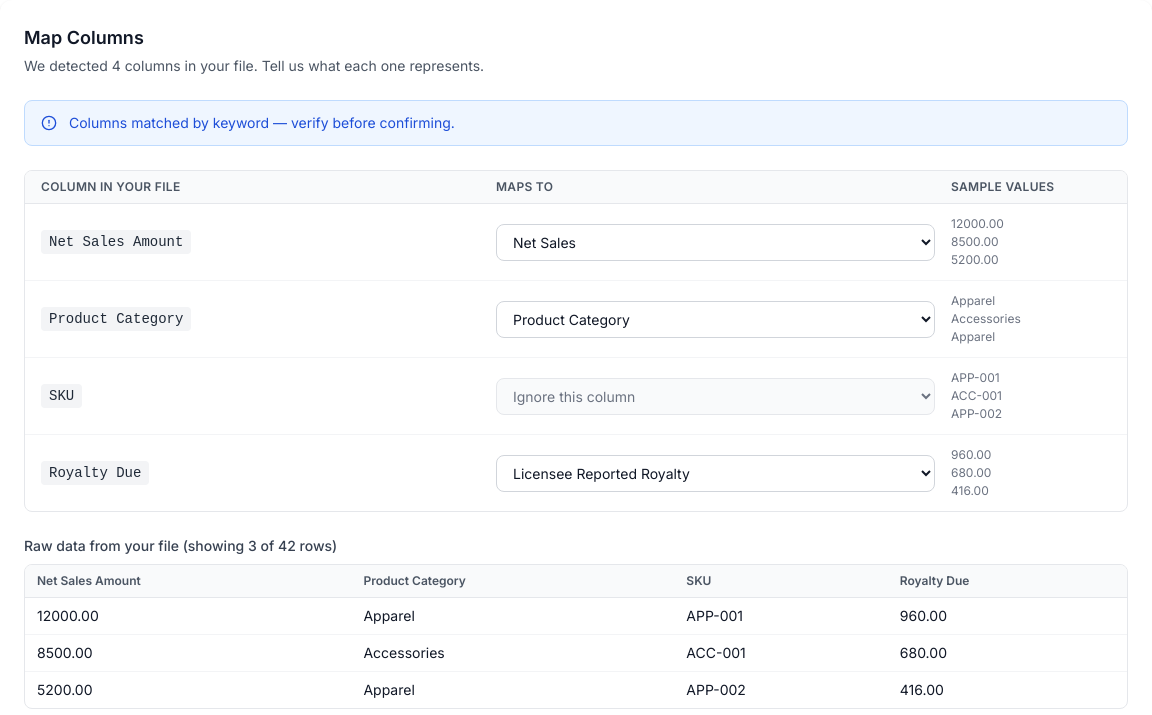
Test: ColumnMapper component › metadata callout disappears when the last metadata column is re-mapped
The width and height of the screenshot is (1152, 715).
Map SKU to metadata
Select "Keep as additional data" in the dropdown named "Map column \"SKU\" to Likha field" at {"x": 716, "y": 396}, box [496,378,935,414]
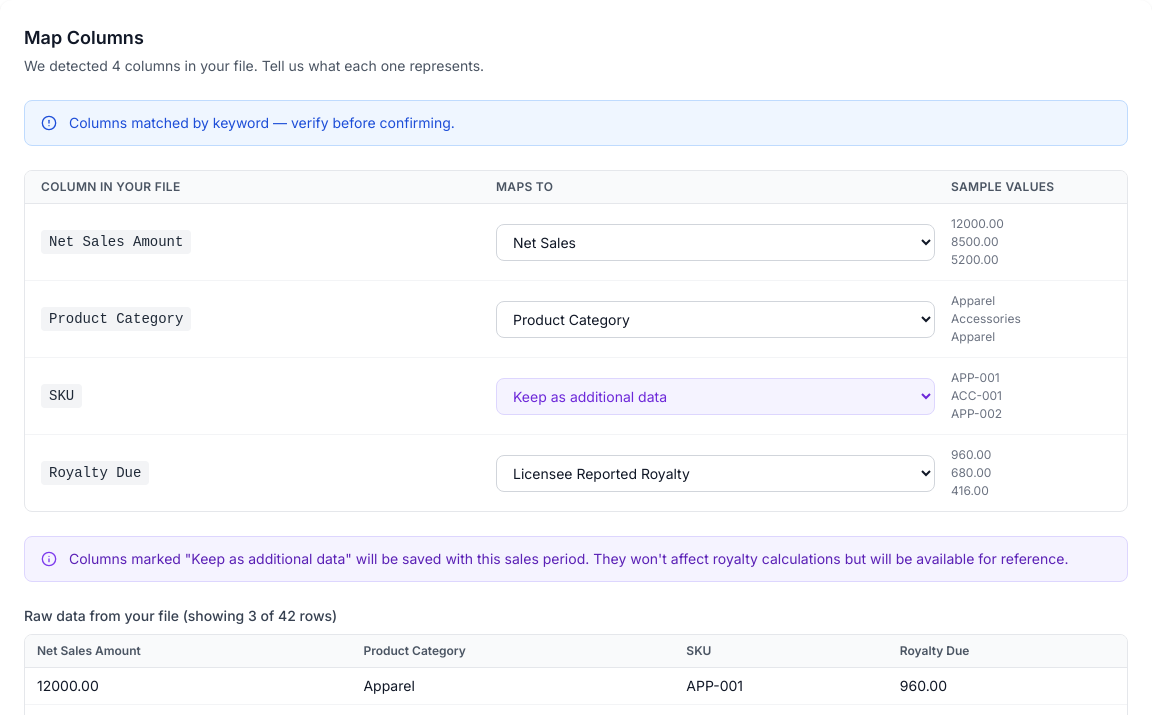
Check: the text "Columns marked \"Keep as additional data\" will be saved" is shown, box [69,550,1068,567]
Re-map SKU back to ignore
Select "Ignore this column" in the dropdown named "Map column \"SKU\" to Likha field" at {"x": 716, "y": 396}, box [496,378,935,414]
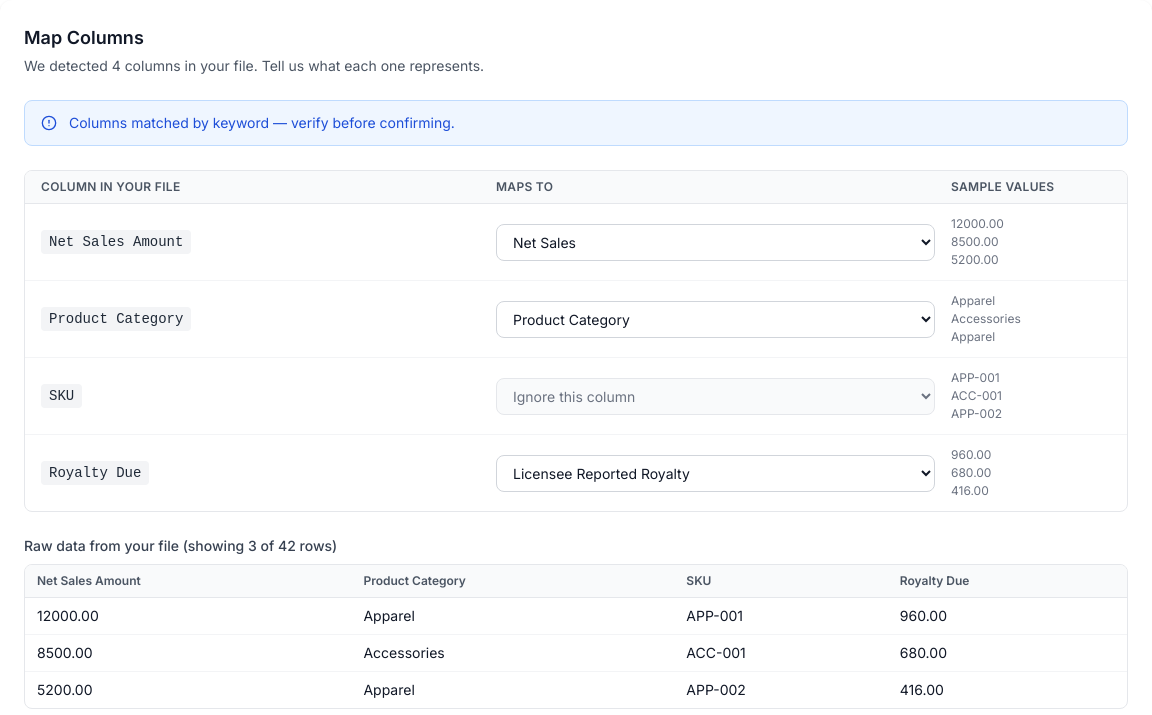
Check: the text "Columns marked \"Keep as additional data\" will be saved" is gone
